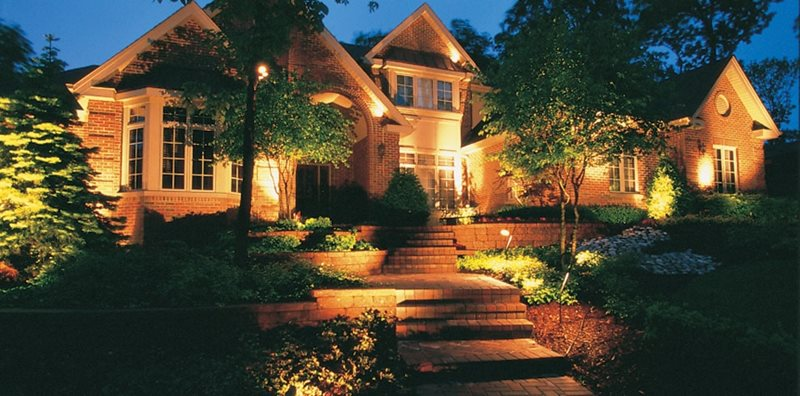tree: (144, 2, 350, 262), (476, 3, 664, 267)
